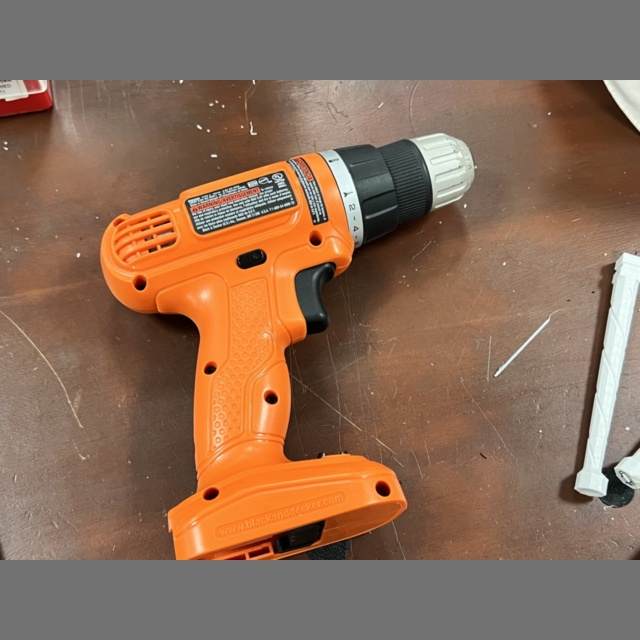drill: (100, 134, 474, 560)
